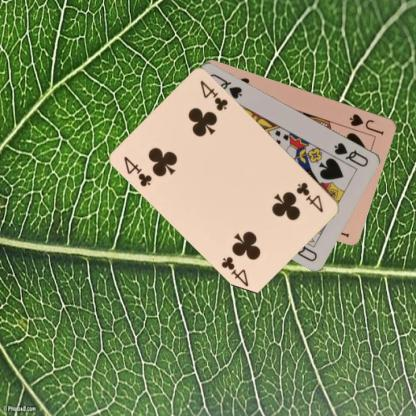4c: (121, 154, 154, 188), (294, 180, 324, 214)
Js: (347, 111, 385, 136)
Qs: (332, 139, 370, 168)
